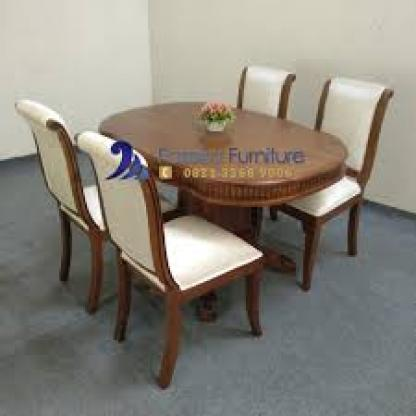Dining Table: (11, 60, 407, 388)
